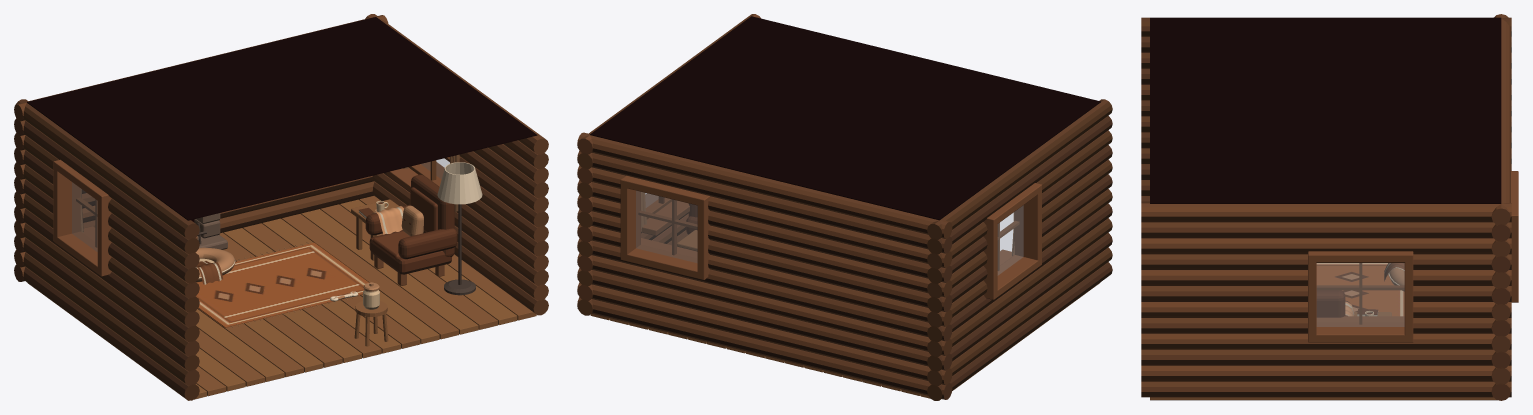
The model's file is cabin.glb.
3 renders of one model, left to right at view 1: azimuth 30°, elevation 25°; view 2: azimuth 150°, elevation 25°; view 3: azimuth 270°, elevation 25°, orthographic. The views are drawn at different scales.
Visible parts, largest first — view 1: room.log, room.plank, room.rug, item.chair.leather, item.window.log, item.lamp.paper, glass.window.left, item.bed.cloth, item.jar.plank, item.fire.stone, item.lamp.metal, item.table.plank; view 2: room.log, item.window.log, glass.window.hearth, glass.window.left, room.plank; view 3: room.log, item.window.log, glass.window, room.rug, room.plank, item.chair.leather, item.bed.cloth.
Boxes of the visible parts, <box> form: room.log: <box>14,14,548,400</box>; room.plank: <box>28,196,536,400</box>; room.rug: <box>195,242,368,327</box>; item.chair.leather: <box>365,174,457,285</box>; item.window.log: <box>53,154,460,276</box>; item.lamp.paper: <box>437,162,482,204</box>; glass.window.left: <box>72,182,97,251</box>; item.bed.cloth: <box>195,247,235,284</box>; item.jar.plank: <box>354,301,388,346</box>; item.fire.stone: <box>191,213,227,249</box>; item.lamp.metal: <box>444,204,475,295</box>; item.table.plank: <box>351,199,398,260</box>; room.log: <box>577,14,1112,400</box>; item.window.log: <box>620,175,1041,299</box>; glass.window.hearth: <box>636,191,697,262</box>; glass.window.left: <box>998,205,1023,274</box>; room.plank: <box>590,282,1100,400</box>; room.log: <box>1141,14,1511,400</box>; item.window.log: <box>1308,171,1518,342</box>; glass.window: <box>1317,263,1404,326</box>; room.rug: <box>1316,263,1404,316</box>; room.plank: <box>1150,397,1497,400</box>; item.chair.leather: <box>1316,290,1354,317</box>; item.bed.cloth: <box>1384,263,1404,291</box>.
Size of the model in its own units: 5.4 by 2.48 by 4.3.
11 materials, 2 textured.
